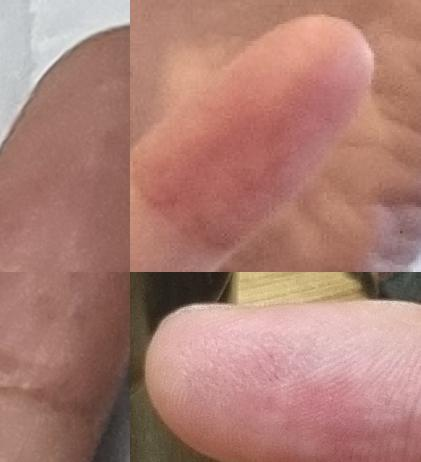Fingerprints: (130, 15, 374, 251), (145, 302, 421, 462), (0, 26, 130, 272)
